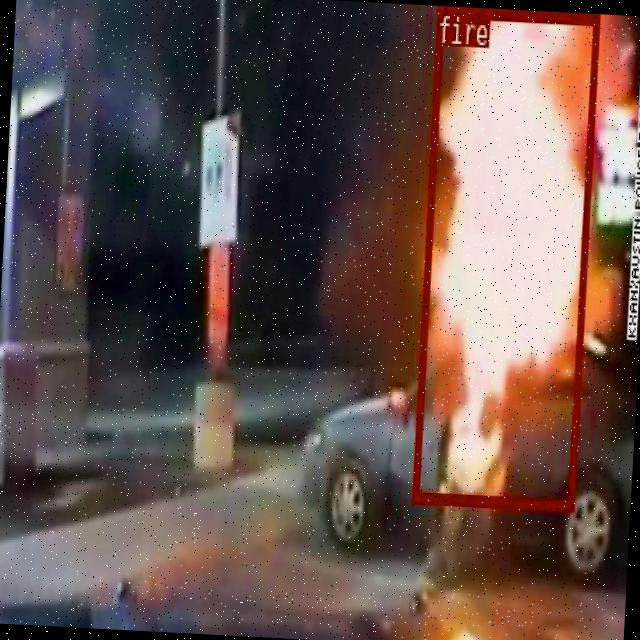fire: (411, 6, 599, 510)
